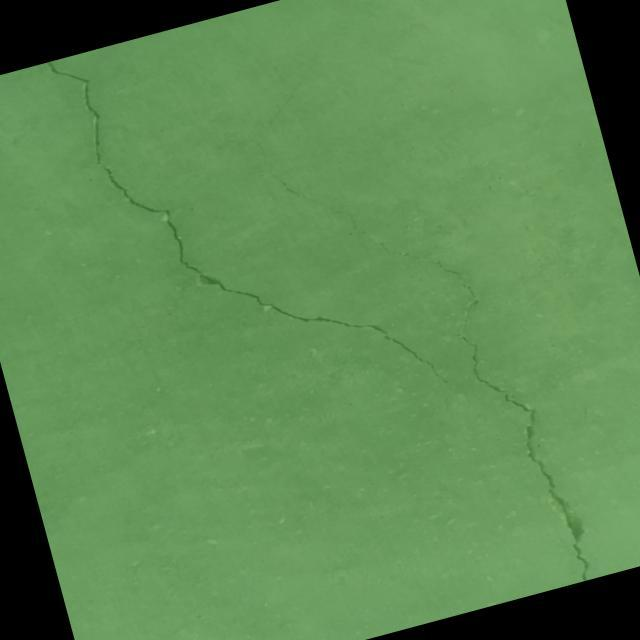crack: (220, 17, 597, 638), (46, 0, 460, 498)
